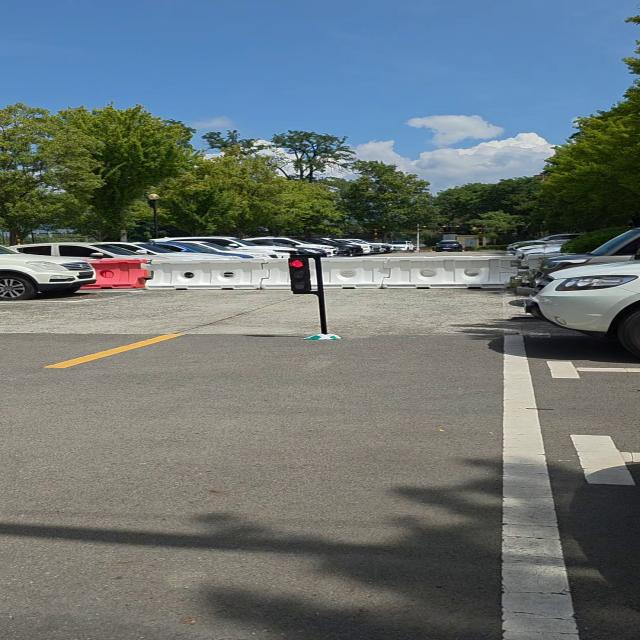red: (284, 256, 320, 290)
